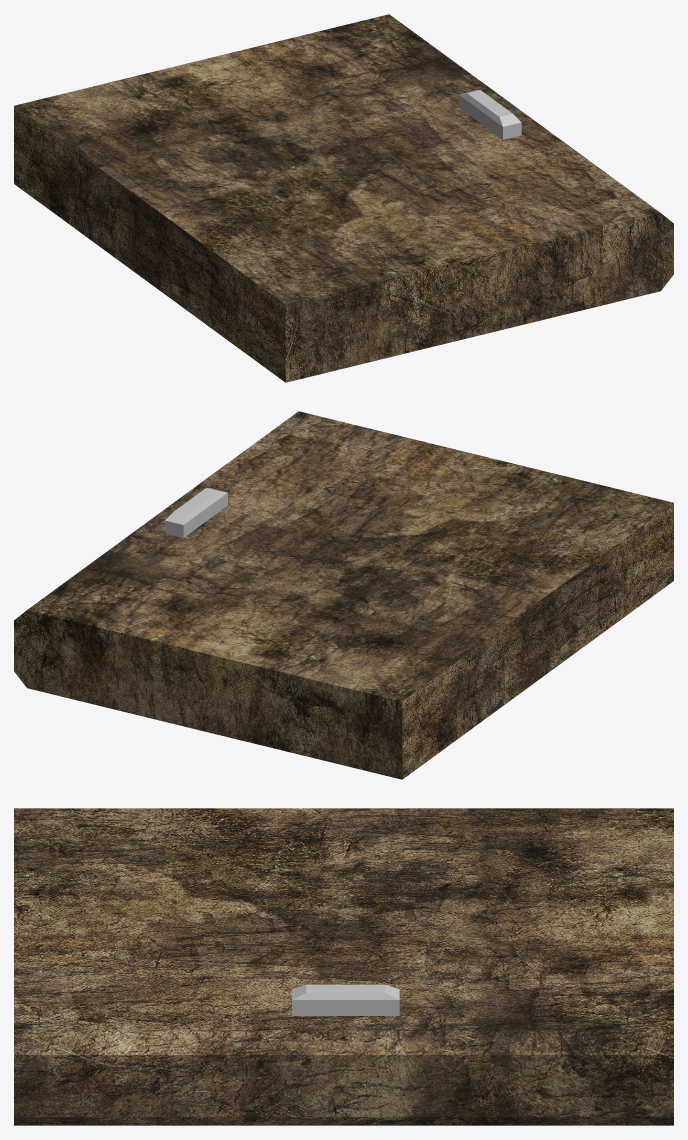
File: botola.FBX
3 views of the same model, one above another, from view 1: azimuth 30°, elevation 25°; view 2: azimuth 150°, elevation 25°; view 3: azimuth 270°, elevation 25° (orthographic). The views are drawn at different scales.
Parts seen in each view (by area): view 1: botola; view 2: botola; view 3: botola.
Part boxes in pixels (bbox=[...]): botola: bbox=[14, 14, 673, 382]; botola: bbox=[14, 411, 673, 779]; botola: bbox=[14, 808, 673, 1125].
Size of the model in its own units: 10 by 2.36 by 12.11.
